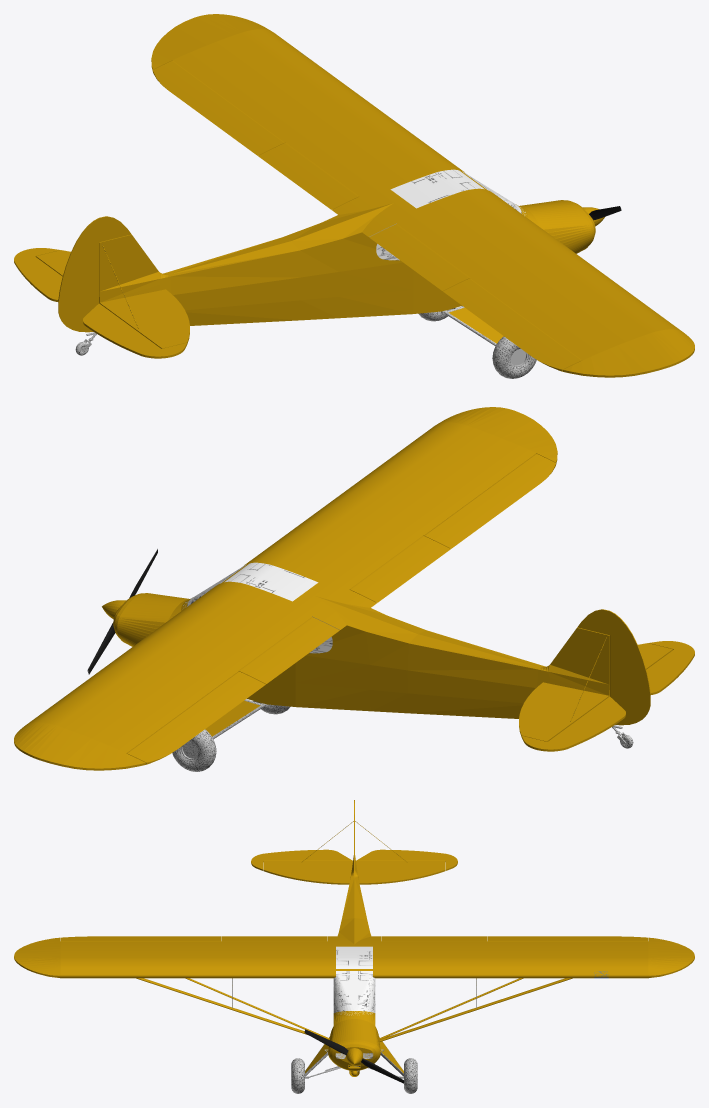
3 views of the same model, one above another, from view 1: azimuth 30°, elevation 25°; view 2: azimuth 150°, elevation 25°; view 3: azimuth 270°, elevation 25° (orthographic). The views are drawn at different scales.
Parts seen in each view (by area): view 1: mesh1_mesh1-geometry, mesh2_mesh2-geometry, mesh24_mesh24-geometry, mesh34_mesh34-geometry, mesh35_mesh35-geometry, mesh31_mesh31-geometry, mesh21_mesh21-geometry, mesh7_mesh7-geometry, mesh20_mesh20-geometry, mesh19_mesh19-geometry; view 2: mesh1_mesh1-geometry, mesh2_mesh2-geometry, mesh34_mesh34-geometry, mesh24_mesh24-geometry, mesh31_mesh31-geometry, mesh35_mesh35-geometry, mesh7_mesh7-geometry, mesh21_mesh21-geometry, mesh6_mesh6-geometry, mesh4_mesh4-geometry; view 3: mesh1_mesh1-geometry, mesh21_mesh21-geometry, mesh7_mesh7-geometry, mesh34_mesh34-geometry, mesh24_mesh24-geometry, mesh5_mesh5-geometry, mesh35_mesh35-geometry, mesh31_mesh31-geometry, mesh15_mesh15-geometry, mesh20_mesh20-geometry, mesh6_mesh6-geometry.
Boxes of the visible parts, bbox=[...] form: mesh1_mesh1-geometry: bbox=[36, 14, 694, 377]; mesh2_mesh2-geometry: bbox=[58, 216, 131, 332]; mesh24_mesh24-geometry: bbox=[443, 278, 582, 371]; mesh34_mesh34-geometry: bbox=[153, 60, 284, 155]; mesh35_mesh35-geometry: bbox=[258, 142, 359, 209]; mesh31_mesh31-geometry: bbox=[369, 224, 470, 290]; mesh21_mesh21-geometry: bbox=[83, 303, 187, 358]; mesh7_mesh7-geometry: bbox=[14, 248, 62, 301]; mesh20_mesh20-geometry: bbox=[492, 336, 536, 378]; mesh19_mesh19-geometry: bbox=[444, 307, 503, 346]; mesh1_mesh1-geometry: bbox=[14, 407, 672, 770]; mesh2_mesh2-geometry: bbox=[577, 609, 650, 725]; mesh34_mesh34-geometry: bbox=[126, 671, 265, 764]; mesh24_mesh24-geometry: bbox=[424, 453, 555, 548]; mesh31_mesh31-geometry: bbox=[349, 535, 450, 602]; mesh35_mesh35-geometry: bbox=[238, 617, 339, 683]; mesh7_mesh7-geometry: bbox=[521, 696, 625, 751]; mesh21_mesh21-geometry: bbox=[646, 641, 694, 694]; mesh6_mesh6-geometry: bbox=[172, 729, 216, 771]; mesh4_mesh4-geometry: bbox=[205, 700, 264, 739]; mesh1_mesh1-geometry: bbox=[14, 821, 694, 1076]; mesh21_mesh21-geometry: bbox=[251, 849, 352, 870]; mesh7_mesh7-geometry: bbox=[356, 849, 457, 870]; mesh34_mesh34-geometry: bbox=[487, 936, 647, 941]; mesh24_mesh24-geometry: bbox=[61, 936, 221, 941]; mesh5_mesh5-geometry: bbox=[379, 978, 572, 1041]; mesh35_mesh35-geometry: bbox=[381, 936, 486, 941]; mesh31_mesh31-geometry: bbox=[222, 936, 327, 941]; mesh15_mesh15-geometry: bbox=[136, 978, 329, 1039]; mesh20_mesh20-geometry: bbox=[291, 1058, 305, 1093]; mesh6_mesh6-geometry: bbox=[403, 1058, 417, 1093].
Bounding box in the file's own units: 0.5425 × 0.2106 × 0.8132.
